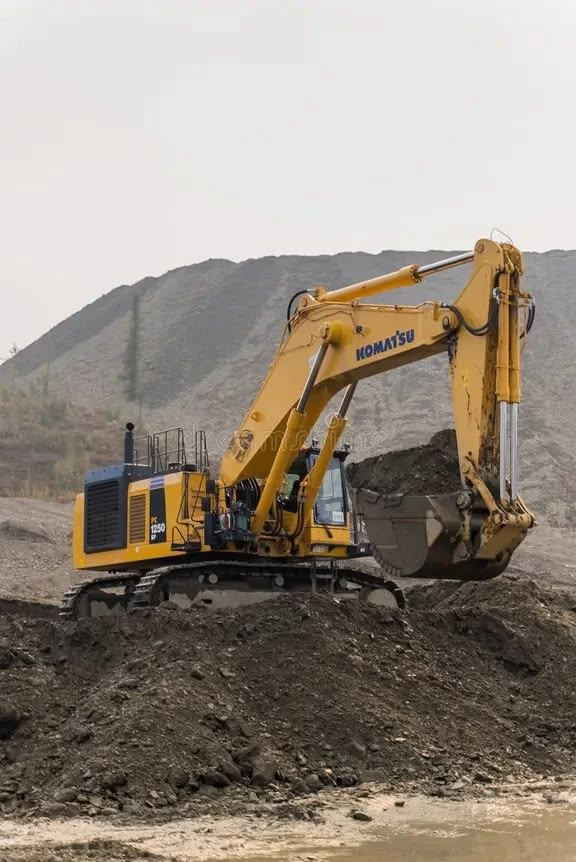excavator: (52, 212, 550, 704)
